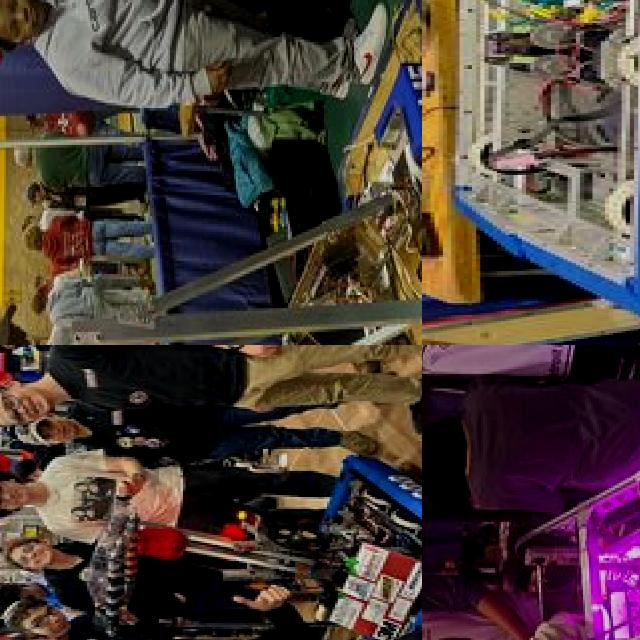FRC-Robots: (55, 42, 422, 345), (422, 0, 640, 343), (74, 453, 422, 640), (507, 345, 640, 640)
